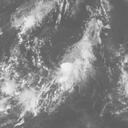cyclone: (50, 62, 86, 91)
